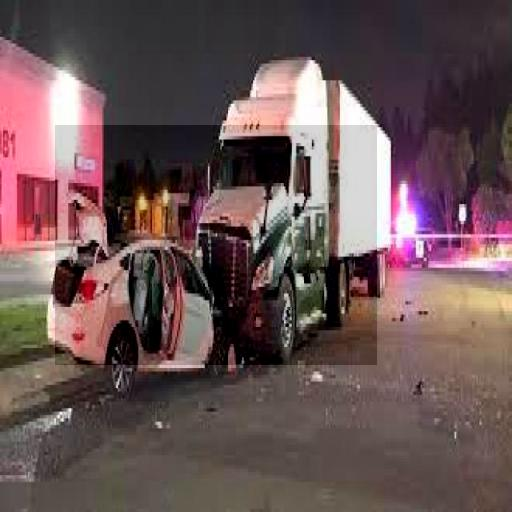小汽车撞小汽车: (55, 126, 377, 366)
